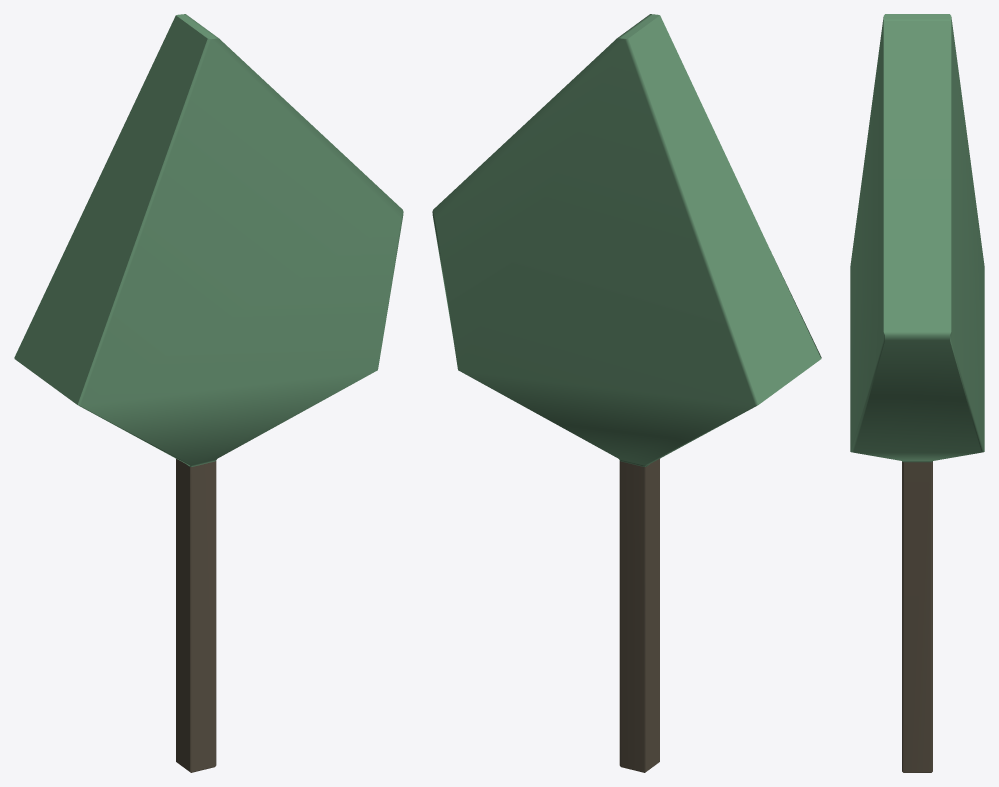
Rendered from Tree 4.fbx.
3 renders of one model, left to right at view 1: azimuth 30°, elevation 25°; view 2: azimuth 150°, elevation 25°; view 3: azimuth 270°, elevation 25°, orthographic.
Visible parts, largest first — view 1: pCube12; view 2: pCube12; view 3: pCube12.
Boxes of the visible parts, <box> form: pCube12: <box>14,14,403,772</box>; pCube12: <box>432,14,821,772</box>; pCube12: <box>850,14,984,772</box>.
Size of the model in its own units: 1.27 by 2.62 by 0.4252.
